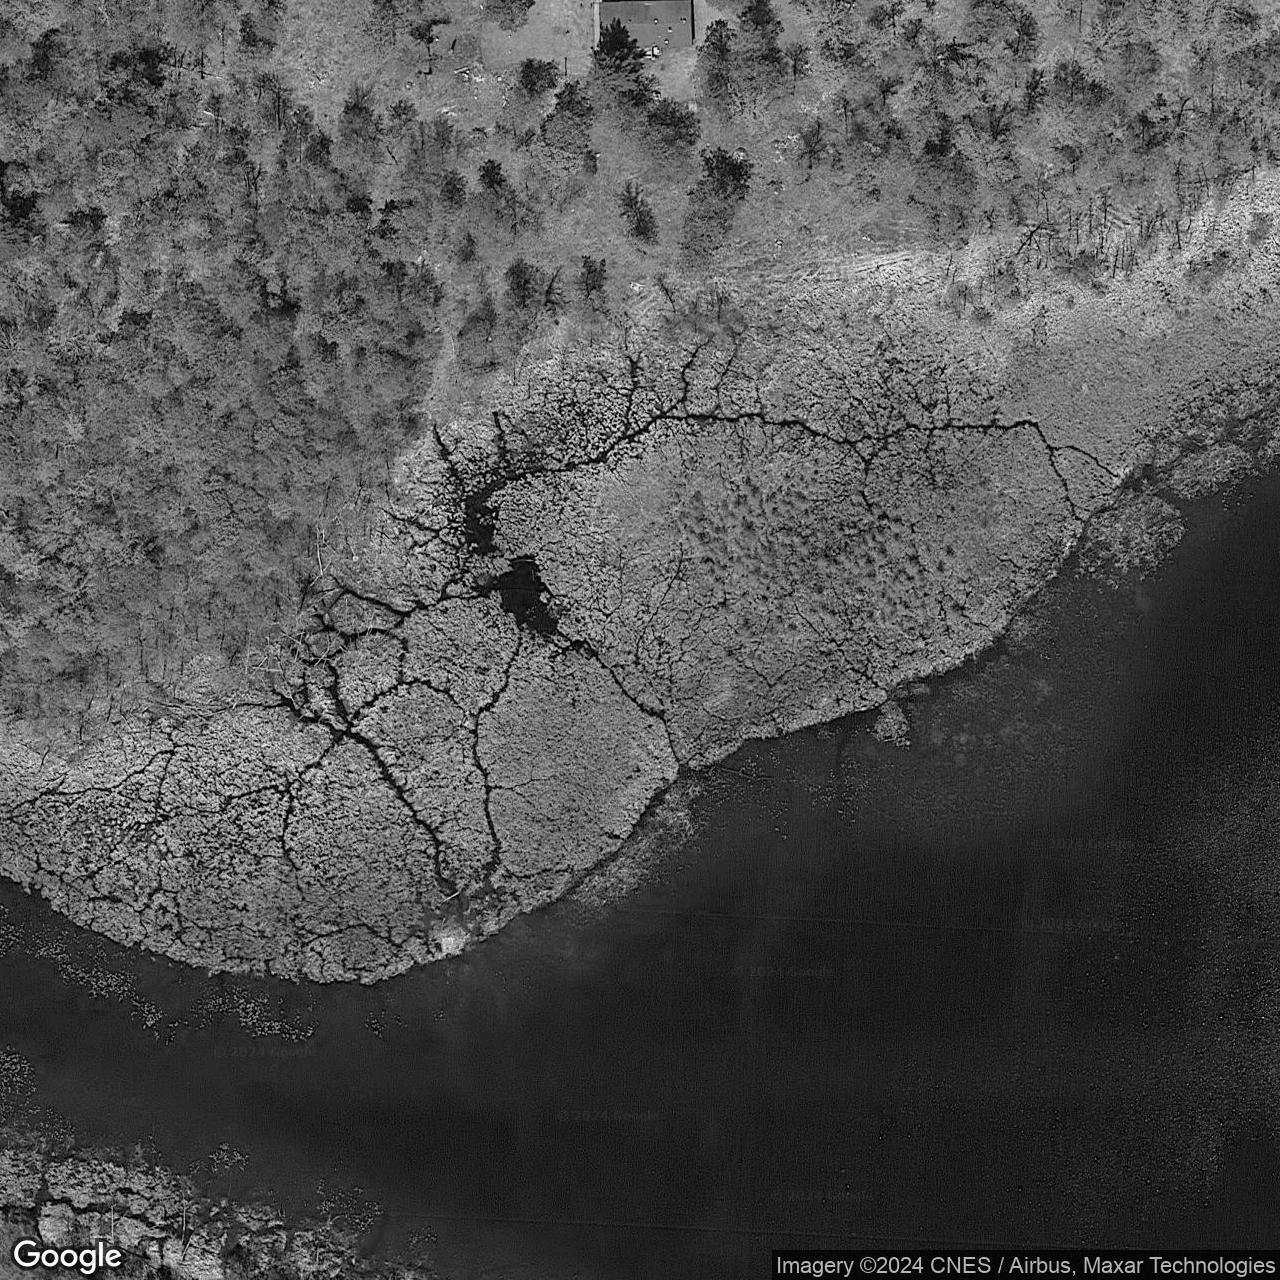House: (599, 0, 694, 52)
